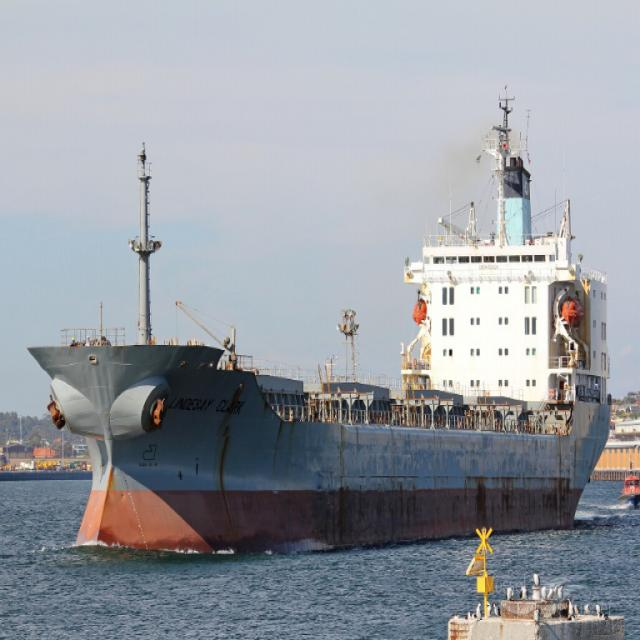OCR: (163, 386, 249, 436)
